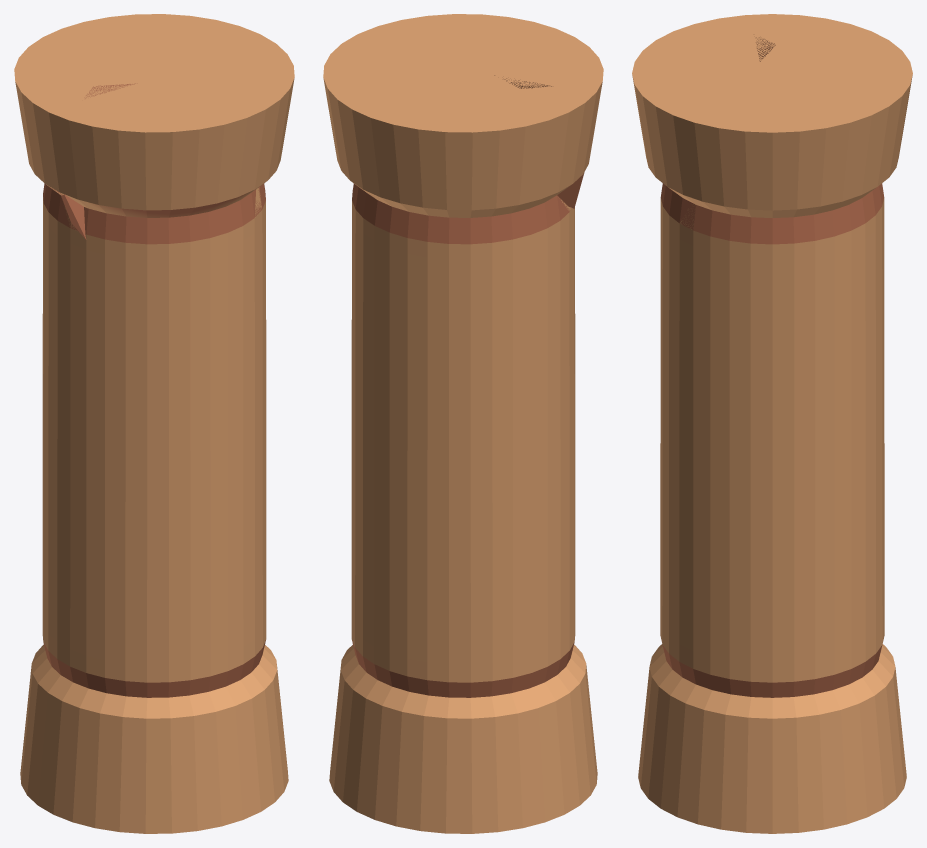
Rendered from pillar.glb.
3 renders of one model, left to right at view 1: azimuth 30°, elevation 25°; view 2: azimuth 150°, elevation 25°; view 3: azimuth 270°, elevation 25°, orthographic.
Visible parts, largest first — view 1: Complete, broken; view 2: Complete, broken; view 3: Complete, broken.
Part boxes in pixels (left/top/right/bottom): Complete: left=14, top=14, right=294, bottom=833; broken: left=34, top=34, right=292, bottom=664; Complete: left=323, top=14, right=603, bottom=833; broken: left=331, top=27, right=595, bottom=507; Complete: left=632, top=14, right=912, bottom=833; broken: left=660, top=14, right=798, bottom=631.
Bounding box in the file's own units: 2.6 × 7.18 × 2.6.
Materials: 2 (2 with a texture image).
